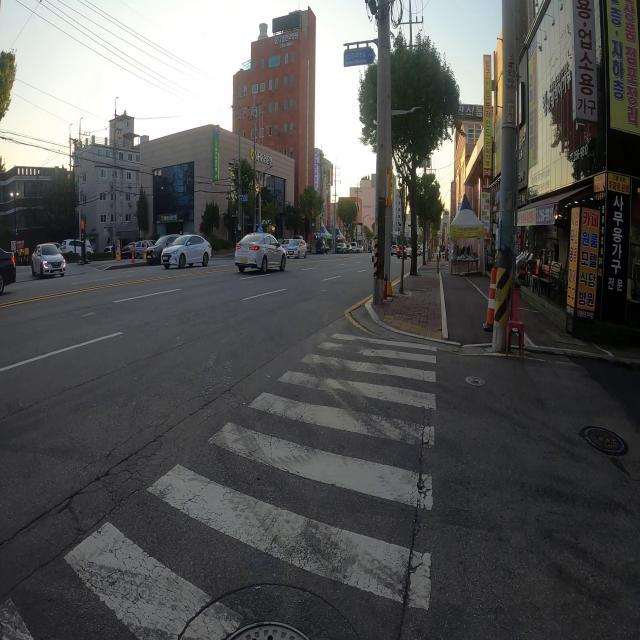crosswalk: (0, 327, 437, 639)
